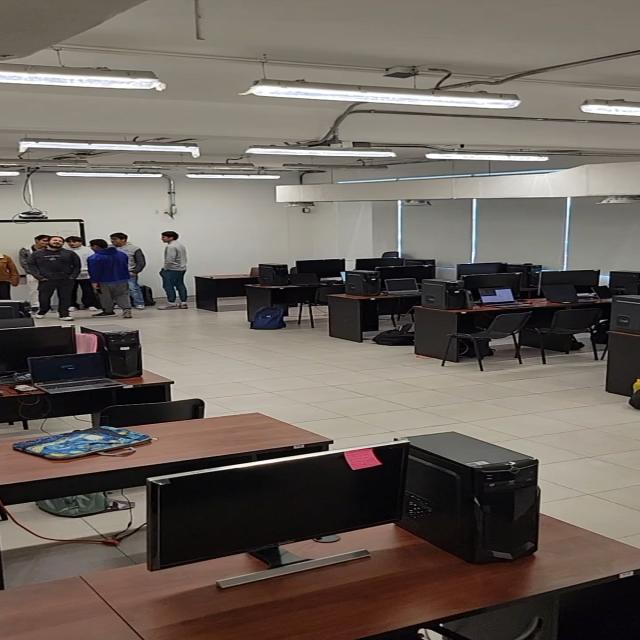Persona: (88, 238, 138, 320), (33, 235, 80, 321), (159, 231, 192, 315)
